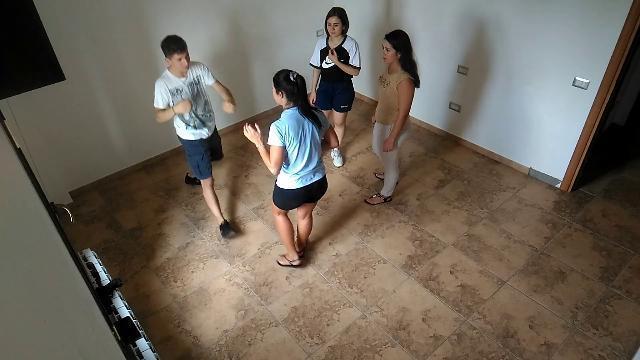non-violence: (362, 28, 422, 208), (306, 6, 362, 170)
violence: (152, 34, 338, 268)
